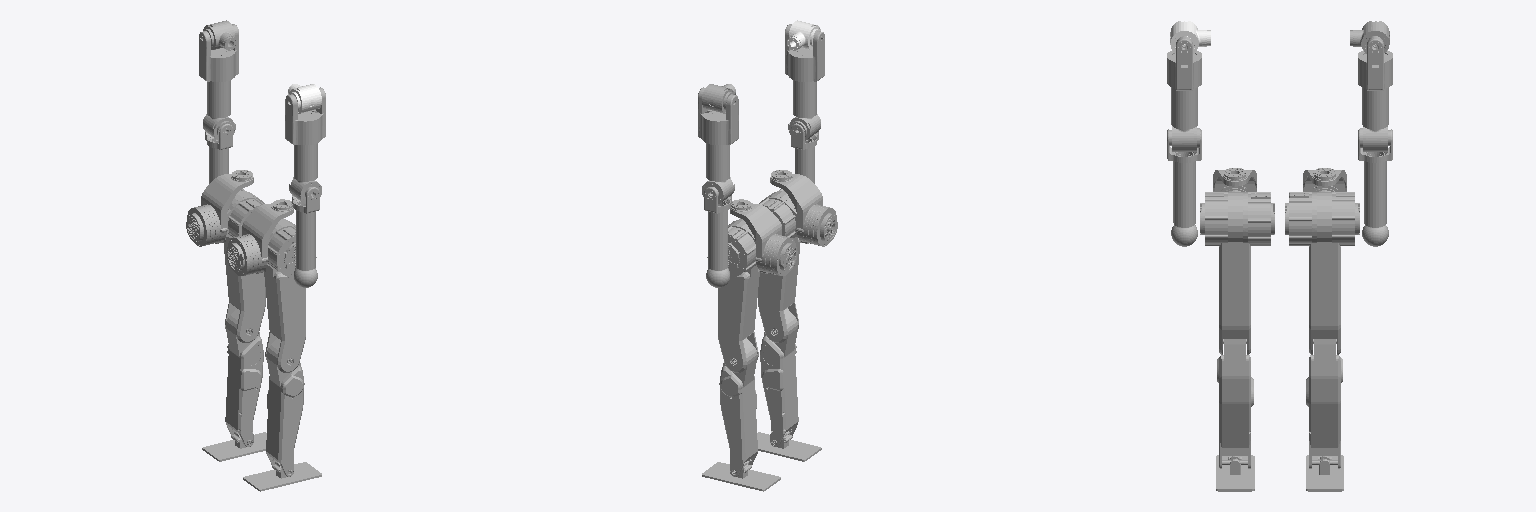
--- Render facts (derived) ---
The picture shows the robot from 3 angles, left to right: view 1: azimuth 30°, elevation 25°; view 2: azimuth 150°, elevation 25°; view 3: azimuth 270°, elevation 25°; orthographic projection.
Robot: bot_elf — 33 links, 32 joints (20 revolute, 11 fixed, 1 floating); root link world; default pose: every joint at zero.
Links seen in each view (by area): view 1: r_hip_y_link, r_knee_y_link, l_knee_y_link, l_hip_z_link, r_hip_z_link, l_hip_y_link, r_elb_y_link, r_shld_x_link, l_shld_x_link, l_shld_z_link, r_shld_z_link, r_ankle_x_link (+5 smaller); view 2: l_hip_y_link, l_knee_y_link, r_knee_y_link, r_hip_z_link, l_hip_z_link, r_hip_y_link, l_elb_y_link, l_shld_x_link, r_shld_x_link, r_shld_z_link, l_shld_z_link, l_ankle_x_link (+5 smaller); view 3: r_hip_y_link, l_hip_y_link, l_knee_y_link, r_knee_y_link, l_elb_y_link, r_elb_y_link, r_shld_z_link, l_shld_z_link, l_hip_x_link, r_hip_x_link, l_shld_x_link, r_shld_x_link (+6 smaller).
Link boxes in pixels (x1,y1,x2,y2): r_hip_y_link: (264,221,316,372); r_knee_y_link: (266,338,304,476); l_knee_y_link: (225,308,263,446); l_hip_z_link: (186,170,253,246); r_hip_z_link: (226,199,293,275); l_hip_y_link: (223,189,265,342); r_elb_y_link: (292,187,319,287); r_shld_x_link: (285,87,325,144); l_shld_x_link: (199,24,238,81); l_shld_z_link: (203,80,235,140); r_shld_z_link: (289,143,321,203); r_ankle_x_link: (243,462,321,491); l_hip_y_link: (707,221,759,372); l_knee_y_link: (719,338,757,476); r_knee_y_link: (760,308,798,446); r_hip_z_link: (770,170,837,246); l_hip_z_link: (730,199,797,275); r_hip_y_link: (758,189,800,342); l_elb_y_link: (704,187,731,287); l_shld_x_link: (698,87,738,144); r_shld_x_link: (785,24,824,81); r_shld_z_link: (788,80,820,140); l_shld_z_link: (702,143,734,203); l_ankle_x_link: (702,462,780,491); r_hip_y_link: (1200,192,1250,354); l_hip_y_link: (1309,192,1359,354); l_knee_y_link: (1306,339,1342,468); r_knee_y_link: (1217,339,1253,468); l_elb_y_link: (1358,129,1392,246); r_elb_y_link: (1167,129,1201,246); r_shld_z_link: (1171,87,1199,151); l_shld_z_link: (1360,87,1388,151); l_hip_x_link: (1285,192,1316,245); r_hip_x_link: (1243,192,1274,245); l_shld_x_link: (1358,36,1392,90); r_shld_x_link: (1167,36,1201,90).
Bounding box of the posed robot: 0.2297 × 0.5058 × 1.11 m (x, y, z).
20 mesh visuals loaded from 21 distinct referenced files (20 binary STL); not drawn: 1 (reference not matched to a file when rendering).

robot.urdf — bot_elf:
<?xml version="1.0" encoding="utf-8"?>
<robot
  name="bot_elf">
  <link
    name="base_link">
    <inertial>
      <origin
        xyz="0.0047796 0.0024086 -0.0080626"
        rpy="0 0 0" />
      <mass
        value="8.1797" />
      <inertia
        ixx="0.048088"
        ixy="1.5174E-07"
        ixz="1.072E-05"
        iyy="0.025715"
        iyz="-1.8442E-06"
        izz="0.034109" />
    </inertial>
    <visual>
      <origin
        xyz="0 0 0"
        rpy="0 0 0" />
      <geometry>
        <mesh
          filename="package://description/model/urdf/bot_elf/meshes/base_link.STL" />
      </geometry>
      <material
        name="">
        <color
          rgba="0.75294 0.75294 0.75294 1" />
      </material>
    </visual>
    <collision>
      <origin
        xyz="0 0 0"
        rpy="0 0 0" />
      <geometry>
        <mesh
          filename="package://description/model/urdf/bot_elf/meshes/base_link.STL" />
      </geometry>
    </collision>
  </link>
  <link
    name="l_hip_z_link">
    <inertial>
      <origin
        xyz="-0.0926596088186881 1.83143900212845E-05 0.013335848664072"
        rpy="0 0 0" />
      <mass
        value="1.23681233828303" />
      <inertia
        ixx="0.00190369835860619"
        ixy="5.51860109314912E-07"
        ixz="-0.000295974194800576"
        iyy="0.00158455365942534"
        iyz="2.68654743796429E-06"
        izz="0.00116909292803411" />
    </inertial>
    <visual>
      <origin
        xyz="0 0 0"
        rpy="0 0 0" />
      <geometry>
        <mesh
          filename="package://description/model/urdf/bot_elf/meshes/l_hip_z_link.STL" />
      </geometry>
      <material
        name="">
        <color
          rgba="0.752941176470588 0.752941176470588 0.752941176470588 1" />
      </material>
    </visual>
    <collision>
      <origin
        xyz="0 0 0"
        rpy="0 0 0" />
      <geometry>
        <mesh
          filename="package://description/model/urdf/bot_elf/meshes/l_hip_z_link.STL" />
      </geometry>
    </collision>
  </link>
  <joint
    name="l_hip_z_joint"
    type="revolute">
    <origin
      xyz="0 0.1 -0.2929"
      rpy="0 0 0" />
    <parent
      link="base_link" />
    <child
      link="l_hip_z_link" />
    <axis
      xyz="0 0 1" />
    <limit
      lower="-0.785"
      upper="0.785"
      effort="20"
      velocity="20" />
  </joint>
  <link
    name="l_hip_x_link">
    <inertial>
      <origin
        xyz="-0.00338370329540797 -0.0467745110690707 5.150285588576E-06"
        rpy="0 0 0" />
      <mass
        value="1.52690683733997" />
      <inertia
        ixx="0.00145004913823758"
        ixy="4.10352624430737E-05"
        ixz="4.97801733338824E-08"
        iyy="0.00233457718239287"
        iyz="-1.50048456747228E-08"
        izz="0.00157352349598003" />
    </inertial>
    <visual>
      <origin
        xyz="0 0 0"
        rpy="0 0 0" />
      <geometry>
        <mesh
          filename="package://description/model/urdf/bot_elf/meshes/l_hip_x_link.STL" />
      </geometry>
      <material
        name="">
        <color
          rgba="0.752941176470588 0.752941176470588 0.752941176470588 1" />
      </material>
    </visual>
    <collision>
      <origin
        xyz="0 0 0"
        rpy="0 0 0" />
      <geometry>
        <mesh
          filename="package://description/model/urdf/bot_elf/meshes/l_hip_x_link.STL" />
      </geometry>
    </collision>
  </link>
  <joint
    name="l_hip_x_joint"
    type="revolute">
    <origin
      xyz="0 0 0"
      rpy="0 0 0" />
    <parent
      link="l_hip_z_link" />
    <child
      link="l_hip_x_link" />
    <axis
      xyz="1 0 0" />
    <limit
      lower="-0.523"
      upper="0.785"
      effort="40"
      velocity="20" />
  </joint>
  <link
    name="l_hip_y_link">
    <inertial>
      <origin
        xyz="0.00255762409650847 0.0236405387147591 -0.048808744713007"
        rpy="0 0 0" />
      <mass
        value="2.50086507860377" />
      <inertia
        ixx="0.0110437074735068"
        ixy="1.73008147567407E-06"
        ixz="0.000227328231594566"
        iyy="0.0125914973055777"
        iyz="-2.64879858826109E-05"
        izz="0.0023184281360165" />
    </inertial>
    <visual>
      <origin
        xyz="0 0 0"
        rpy="0 0 0" />
      <geometry>
        <mesh
          filename="package://description/model/urdf/bot_elf/meshes/l_hip_y_link.STL" />
      </geometry>
      <material
        name="">
        <color
          rgba="0.752941176470588 0.752941176470588 0.752941176470588 1" />
      </material>
    </visual>
    <collision>
      <origin
        xyz="0 0 0"
        rpy="0 0 0" />
      <geometry>
        <mesh
          filename="package://description/model/urdf/bot_elf/meshes/l_hip_y_link.STL" />
      </geometry>
    </collision>
  </link>
  <joint
    name="l_hip_y_joint"
    type="revolute">
    <origin
      xyz="0 0 0"
      rpy="0 0 0" />
    <parent
      link="l_hip_x_link" />
    <child
      link="l_hip_y_link" />
    <axis
      xyz="0 1 0" />
    <limit
      lower="-2"
      upper="0.5"
      effort="150"
      velocity="20" />
  </joint>
  <link
    name="l_knee_y_link">
    <inertial>
      <origin
        xyz="0.00615799985005955 0.000579611337631 -0.110706777787508"
        rpy="0 0 0" />
      <mass
        value="1.42611317447382" />
      <inertia
        ixx="0.00265261046145861"
        ixy="3.62716577648164E-06"
        ixz="-0.00014997989154327"
        iyy="0.00293783143268895"
        iyz="1.89587363258298E-05"
        izz="0.000614654317255875" />
    </inertial>
    <visual>
      <origin
        xyz="0 0 0"
        rpy="0 0 0" />
      <geometry>
        <mesh
          filename="package://description/model/urdf/bot_elf/meshes/l_knee_y_link.STL" />
      </geometry>
      <material
        name="">
        <color
          rgba="0.752941176470588 0.752941176470588 0.752941176470588 1" />
      </material>
    </visual>
    <collision>
      <origin
        xyz="0 0 0"
        rpy="0 0 0" />
      <geometry>
        <mesh
          filename="package://description/model/urdf/bot_elf/meshes/l_knee_y_link.STL" />
      </geometry>
    </collision>
  </link>
  <joint
    name="l_knee_y_joint"
    type="revolute">
    <origin
      xyz="0 0 -0.3"
      rpy="0 0 0" />
    <parent
      link="l_hip_y_link" />
    <child
      link="l_knee_y_link" />
    <axis
      xyz="0 1 0" />
    <limit
      lower="0"
      upper="2.2"
      effort="150"
      velocity="20" />
  </joint>
  <link
    name="l_ankle_y_link">
    <inertial>
      <origin
        xyz="-6.09814513086586E-12 5.83219791905343E-10 3.64153152077051E-14"
        rpy="0 0 0" />
      <mass
        value="0.0230716180694964" />
      <inertia
        ixx="2.87473990078246E-06"
        ixy="-5.92541251517592E-17"
        ixz="-6.2876746116499E-18"
        iyy="5.59461108357194E-07"
        iyz="5.67081566973957E-19"
        izz="2.6957694272781E-06" />
    </inertial>
    <visual>
      <origin
        xyz="0 0 0"
        rpy="0 0 0" />
      <geometry>
        <mesh
          filename="package://description/model/urdf/bot_elf/meshes/l_ankle_y_link.STL" />
      </geometry>
      <material
        name="">
        <color
          rgba="0.752941176470588 0.752941176470588 0.752941176470588 1" />
      </material>
    </visual>
    <collision>
      <origin
        xyz="0 0 0"
        rpy="0 0 0" />
      <geometry>
        <mesh
          filename="package://description/model/urdf/bot_elf/meshes/l_ankle_y_link.STL" />
      </geometry>
    </collision>
  </link>
  <joint
    name="l_ankle_y_joint"
    type="revolute">
    <origin
      xyz="0 0 -0.3"
      rpy="0 0 0" />
    <parent
      link="l_knee_y_link" />
    <child
      link="l_ankle_y_link" />
    <axis
      xyz="0 1 0" />
    <limit
      lower="-1.134"
      upper="0.872"
      effort="14"
      velocity="20" />
  </joint>
  <link
    name="l_ankle_x_link">
    <inertial>
      <origin
        xyz="-0.000451547351572134 1.90180791947991E-09 -0.0239480271401858"
        rpy="0 0 0" />
      <mass
        value="0.242076229237956" />
      <inertia
        ixx="0.000133478606835497"
        ixy="-1.35534858432808E-12"
        ixz="-4.72078298245015E-08"
        iyy="0.000565974636810553"
        iyz="-3.48826857670192E-12"
        izz="0.000693006055828246" />
    </inertial>
    <visual>
      <origin
        xyz="0 0 0"
        rpy="0 0 0" />
      <geometry>
        <mesh
          filename="package://description/model/urdf/bot_elf/meshes/l_ankle_x_link.STL" />
      </geometry>
      <material
        name="">
        <color
          rgba="0.752941176470588 0.752941176470588 0.752941176470588 1" />
      </material>
    </visual>
    <collision>
      <origin
        xyz="0 0 0"
        rpy="0 0 0" />
      <geometry>
        <mesh
          filename="package://description/model/urdf/bot_elf/meshes/l_ankle_x_link.STL" />
      </geometry>
    </collision>
  </link>
  <joint
    name="l_ankle_x_joint"
    type="revolute">
    <origin
      xyz="0 0 0"
      rpy="0 0 0" />
    <parent
      link="l_ankle_y_link" />
    <child
      link="l_ankle_x_link" />
    <axis
      xyz="1 0 0" />
    <limit
      lower="-0.349"
      upper="0.349"
      effort="14"
      velocity="20" />
  </joint>
  <link
    name="r_hip_z_link">
    <inertial>
      <origin
        xyz="-0.0926596100628432 -1.83149507901742E-05 0.0133358473859379"
        rpy="0 0 0" />
      <mass
        value="1.23681232467206" />
      <inertia
        ixx="0.00190369819431391"
        ixy="-5.51893727727547E-07"
        ixz="-0.000295974083738072"
        iyy="0.00158455355805139"
        iyz="-2.68652577448903E-06"
        izz="0.00116909298056176" />
    </inertial>
    <visual>
      <origin
        xyz="0 0 0"
        rpy="0 0 0" />
      <geometry>
        <mesh
          filename="package://description/model/urdf/bot_elf/meshes/r_hip_z_link.STL" />
      </geometry>
      <material
        name="">
        <color
          rgba="0.752941176470588 0.752941176470588 0.752941176470588 1" />
      </material>
    </visual>
    <collision>
      <origin
        xyz="0 0 0"
        rpy="0 0 0" />
      <geometry>
        <mesh
          filename="package://description/model/urdf/bot_elf/meshes/r_hip_z_link.STL" />
      </geometry>
    </collision>
  </link>
  <joint
    name="r_hip_z_joint"
    type="revolute">
    <origin
      xyz="0 -0.1 -0.2929"
      rpy="0 0 0" />
    <parent
      link="base_link" />
    <child
      link="r_hip_z_link" />
    <axis
      xyz="0 0 1" />
    <limit
      lower="-0.785"
      upper="0.785"
      effort="20"
      velocity="20" />
  </joint>
  <link
    name="r_hip_x_link">
    <inertial>
      <origin
        xyz="-0.00338370329319122 0.0467745110719649 -5.15028594272327E-06"
        rpy="0 0 0" />
      <mass
        value="1.52690683726889" />
      <inertia
        ixx="0.00145004913816721"
        ixy="-4.1035262366074E-05"
        ixz="-4.97801918977252E-08"
        iyy="0.00233457718230779"
        iyz="-1.50048535538651E-08"
        izz="0.00157352349584134" />
    </inertial>
    <visual>
      <origin
        xyz="0 0 0"
        rpy="0 0 0" />
      <geometry>
        <mesh
          filename="package://description/model/urdf/bot_elf/meshes/r_hip_x_link.STL" />
      </geometry>
      <material
        name="">
        <color
          rgba="0.752941176470588 0.752941176470588 0.752941176470588 1" />
      </material>
    </visual>
    <collision>
      <origin
        xyz="0 0 0"
        rpy="0 0 0" />
      <geometry>
        <mesh
          filename="package://description/model/urdf/bot_elf/meshes/r_hip_x_link.STL" />
      </geometry>
    </collision>
  </link>
  <joint
    name="r_hip_x_joint"
    type="revolute">
    <origin
      xyz="0 0 0"
      rpy="0 0 0" />
    <parent
      link="r_hip_z_link" />
    <child
      link="r_hip_x_link" />
    <axis
      xyz="1 0 0" />
    <limit
      lower="-0.785"
      upper="0.523"
      effort="40"
      velocity="20" />
  </joint>
  <link
    name="r_hip_y_link">
    <inertial>
      <origin
        xyz="0.00255763066098993 -0.0236405391952909 -0.0488087769927071"
        rpy="0 0 0" />
      <mass
        value="2.50086518492187" />
      <inertia
        ixx="0.0110437209512944"
        ixy="-1.72998158531581E-06"
        ixz="0.000227332007725612"
        iyy="0.012591510850742"
        iyz="2.64884628868717E-05"
        izz="0.00231842880087343" />
    </inertial>
    <visual>
      <origin
        xyz="0 0 0"
        rpy="0 0 0" />
      <geometry>
        <mesh
          filename="package://description/model/urdf/bot_elf/meshes/r_hip_y_link.STL" />
      </geometry>
      <material
        name="">
        <color
          rgba="0.752941176470588 0.752941176470588 0.752941176470588 1" />
      </material>
    </visual>
    <collision>
      <origin
        xyz="0 0 0"
        rpy="0 0 0" />
      <geometry>
        <mesh
          filename="package://description/model/urdf/bot_elf/meshes/r_hip_y_link.STL" />
      </geometry>
    </collision>
  </link>
  <joint
    name="r_hip_y_joint"
    type="revolute">
    <origin
      xyz="0 0 0"
      rpy="0 0 0" />
    <parent
      link="r_hip_x_link" />
    <child
      link="r_hip_y_link" />
    <axis
      xyz="0 1 0" />
    <limit
      lower="-2"
      upper="0.5"
      effort="150"
      velocity="20" />
  </joint>
  <link
    name="r_knee_y_link">
    <inertial>
      <origin
        xyz="0.00617132335541426 -0.000560807743664765 -0.11065165092477"
        rpy="0 0 0" />
      <mass
        value="1.42506790131187" />
      <inertia
        ixx="0.00264676043875699"
        ixy="-3.64420143143032E-06"
        ixz="-0.000149674709580511"
        iyy="0.00293197556843643"
        iyz="-1.92776513579778E-05"
        izz="0.000614607093781911" />
    </inertial>
    <visual>
      <origin
        xyz="0 0 0"
        rpy="0 0 0" />
      <geometry>
        <mesh
          filename="package://description/model/urdf/bot_elf/meshes/r_knee_y_link.STL" />
      </geometry>
      <material
        name="">
        <color
          rgba="0.752941176470588 0.752941176470588 0.752941176470588 1" />
      </material>
    </visual>
    <collision>
      <origin
        xyz="0 0 0"
        rpy="0 0 0" />
      <geometry>
        <mesh
          filename="package://description/model/urdf/bot_elf/meshes/r_knee_y_link.STL" />
      </geometry>
    </collision>
  </link>
  <joint
    name="r_knee_y_joint"
    type="revolute">
    <origin
      xyz="0 0 -0.3"
      rpy="0 0 0" />
    <parent
      link="r_hip_y_link" />
    <child
      link="r_knee_y_link" />
    <axis
      xyz="0 1 0" />
    <limit
      lower="0"
      upper="2.2"
      effort="150"
      velocity="20" />
  </joint>
  <link
    name="r_ankle_y_link">
    <inertial>
      <origin
        xyz="-1.21872957033124E-11 -5.83219417205072E-10 5.00266494896096E-13"
        rpy="0 0 0" />
      <mass
        value="0.0230716180694967" />
      <inertia
        ixx="2.8747399010197E-06"
        ixy="-6.04370024399216E-17"
        ixz="-8.30234156722694E-18"
        iyy="5.59461108474785E-07"
        iyz="-1.29308673475988E-18"
        izz="2.69576942739776E-06" />
    </inertial>
    <visual>
      <origin
        xyz="0 0 0"
        rpy="0 0 0" />
      <geometry>
        <mesh
          filename="package://description/model/urdf/bot_elf/meshes/r_ankle_y_link.STL" />
      </geometry>
      <material
        name="">
        <color
          rgba="0.752941176470588 0.752941176470588 0.752941176470588 1" />
      </material>
    </visual>
    <collision>
      <origin
        xyz="0 0 0"
        rpy="0 0 0" />
      <geometry>
        <mesh
          filename="package://description/model/urdf/bot_elf/meshes/r_ankle_y_link.STL" />
      </geometry>
    </collision>
  </link>
  <joint
    name="r_ankle_y_joint"
    type="revolute">
    <origin
      xyz="0 0 -0.3"
      rpy="0 0 0" />
    <parent
      link="r_knee_y_link" />
    <child
      link="r_ankle_y_link" />
    <axis
      xyz="0 1 0" />
    <limit
      lower="-1.134"
      upper="0.872"
      effort="14"
      velocity="20" />
  </joint>
  <link
    name="r_ankle_x_link">
    <inertial>
      <origin
        xyz="-0.000451549280729961 -1.79609392636504E-09 -0.0239480246768528"
        rpy="0 0 0" />
      <mass
        value="0.24207626222516" />
      <inertia
        ixx="0.000133478605085963"
        ixy="1.32257502304071E-12"
        ixz="-4.72071011237789E-08"
        iyy="0.000565974633400782"
        iyz="3.25954307181434E-12"
        izz="0.000693006056524855" />
    </inertial>
    <visual>
      <origin
        xyz="0 0 0"
        rpy="0 0 0" />
      <geometry>
        <mesh
          filename="package://description/model/urdf/bot_elf/meshes/r_ankle_x_link.STL" />
      </geometry>
      <material
        name="">
        <color
          rgba="0.752941176470588 0.752941176470588 0.752941176470588 1" />
      </material>
    </visual>
    <collision>
      <origin
        xyz="0 0 0"
        rpy="0 0 0" />
      <geometry>
        <mesh
          filename="package://description/model/urdf/bot_elf/meshes/r_ankle_x_link.STL" />
      </geometry>
    </collision>
  </link>
  <joint
    name="r_ankle_x_joint"
    type="revolute">
    <origin
      xyz="0 0 0"
      rpy="0 0 0" />
    <parent
      link="r_ankle_y_link" />
    <child
      link="r_ankle_x_link" />
    <axis
      xyz="1 0 0" />
    <limit
      lower="-0.349"
      upper="0.349"
      effort="14"
      velocity="20" />
  </joint>
  <link
    name="l_shld_y_link">
    <inertial>
      <origin
        xyz="-0.000602020278894832 -0.00203253807550383 5.25078036642812E-05"
        rpy="0 0 0" />
      <mass
        value="0.397430898254414" />
      <inertia
        ixx="0.000197533082877176"
        ixy="-2.13914774743445E-06"
        ixz="4.75269653041195E-07"
        iyy="0.000172304821546368"
        iyz="1.06293202473427E-06"
        izz="0.000193880730475137" />
    </inertial>
    <visual>
      <origin
        xyz="0 0 0"
        rpy="0 0 0" />
      <geometry>
        <mesh
          filename="package://description/model/urdf/bot_elf/meshes/l_shld_y_link.STL" />
      </geometry>
      <material
        name="">
        <color
          rgba="0.752941176470588 0.752941176470588 0.752941176470588 1" />
      </material>
    </visual>
    <collision>
      <origin
        xyz="0 0 0"
        rpy="0 0 0" />
      <geometry>
        <mesh
          filename="package://description/model/urdf/bot_elf/meshes/l_shld_y_link.STL" />
      </geometry>
    </collision>
  </link>
  <joint
    name="l_shld_y_joint"
    type="revolute">
    <origin
      xyz="0 0.213 0.1521"
      rpy="0 0 0" />
    <parent
      link="base_link" />
    <child
      link="l_shld_y_link" />
    <axis
      xyz="0 1 0" />
    <limit
      lower="-2"
      upper="2"
      effort="27"
      velocity="20" />
  </joint>
  <link
    name="l_shld_x_link">
    <inertial>
      <origin
        xyz="3.49942010425215E-05 5.81165736925626E-05 -0.068328160023371"
        rpy="0 0 0" />
      <mass
        value="0.621968051279973" />
      <inertia
        ixx="0.000522407314474642"
        ixy="1.0633092850603E-06"
        ixz="4.82966301174553E-06"
        iyy="0.000684523465472649"
        iyz="-8.21814917464773E-07"
        izz="0.000533096664005443" />
    </inertial>
    <visual>
      <origin
        xyz="0 0 0"
        rpy="0 0 0" />
      <geometry>
        <mesh
          filename="package://description/model/urdf/bot_elf/meshes/l_shld_x_link.STL" />
      </geometry>
      <material
        name="">
        <color
          rgba="0.752941176470588 0.752941176470588 0.752941176470588 1" />
      </material>
    </visual>
    <collision>
      <origin
        xyz="0 0 0"
        rpy="0 0 0" />
      <geometry>
        <mesh
          filename="package://description/model/urdf/bot_elf/meshes/l_shld_x_link.STL" />
      </geometry>
    </collision>
  </link>
  <joint
    name="l_shld_x_joint"
    type="revolute">
    <origin
      xyz="0 0 0"
      rpy="0 0 0" />
    <parent
      link="l_shld_y_link" />
    <child
      link="l_shld_x_link" />
    <axis
      xyz="1 0 0" />
    <limit
      lower="-2"
      upper="2"
      effort="27"
      velocity="20" />
  </joint>
  <link
    name="l_shld_z_link">
    <inertial>
      <origin
        xyz="8.04921908110876E-05 -0.000424509130888678 -0.230838826500421"
        rpy="0 0 0" />
      <mass
        value="0.449112448185888" />
      <inertia
        ixx="0.000250701927485454"
        ixy="8.21779092863005E-07"
        ixz="-1.0631472773896E-06"
        iyy="0.000253940290337809"
        iyz="4.73387697997262E-07"
        izz="0.000224460005915657" />
    </inertial>
    <visual>
      <origin
        xyz="0 0 0"
        rpy="0 0 0" />
      <geometry>
        <mesh
          filename="package://description/model/urdf/bot_elf/meshes/l_shld_z_link.STL" />
      </geometry>
      <material
        name="">
        <color
          rgba="0.752941176470588 0.752941176470588 0.752941176470588 1" />
      </material>
    </visual>
    <collision>
      <origin
        xyz="0 0 0"
        rpy="0 0 0" />
      <geometry>
        <mesh
          filename="package://description/model/urdf/bot_elf/meshes/l_shld_z_link.STL" />
      </geometry>
    </collision>
  </link>
  <joint
    name="l_shld_z_joint"
    type="revolute">
    <origin
      xyz="0 0 0"
      rpy="0 0 0" />
    <parent
      link="l_shld_x_link" />
    <child
      link="l_shld_z_link" />
    <axis
      xyz="0 0 1" />
    <limit
      lower="-2"
      upper="2"
      effort="7"
      velocity="20" />
  </joint>
  <link
    name="l_elb_y_link">
    <inertial>
      <origin
        xyz="1.52840600574913E-09 0.00061623853967685 -0.108440061437075"
        rpy="0 0 0" />
      <mass
        value="0.164832849485564" />
      <inertia
        ixx="0.000272523867356837"
        ixy="-3.68958961037701E-12"
        ixz="-4.08453819018909E-13"
        iyy="0.000246652324618476"
        iyz="5.6498846108711E-07"
        izz="0.000111491920128197" />
    </inertial>
    <visual>
      <origin
        xyz="0 0 0"
        rpy="0 0 0" />
      <geometry>
        <mesh
          filename="package://description/model/urdf/bot_elf/meshes/l_elb_y_link.STL" />
      </geometry>
      <material
        name="">
        <color
          rgba="0.752941176470588 0.752941176470588 0.752941176470588 1" />
      </material>
    </visual>
    <collision>
      <origin
        xyz="0 0 0"
        rpy="0 0 0" />
      <geometry>
        <mesh
          filename="package://description/model/urdf/bot_elf/meshes/l_elb_y_link.STL" />
      </geometry>
    </collision>
  </link>
  <joint
    name="l_elb_y_joint"
    type="revolute">
    <origin
      xyz="0 0 -0.24505"
      rpy="0 0 0" />
    <parent
      link="l_shld_z_link" />
    <child
      link="l_elb_y_link" />
    <axis
      xyz="0 1 0" />
    <limit
      lower="-2"
      upper="2"
      effort="27"
      velocity="20" />
  </joint>
  <link
    name="r_shld_y_link">
    <inertial>
      <origin
        xyz="-0.000602020278894832 0.00203253807550383 5.25078036642812E-05"
        rpy="0 0 0" />
      <mass
        value="0.397430898254414" />
        <inertia
        ixx="0.000197533082877176"
        ixy="2.13914774743445E-06"
        ixz="-4.75269653041195E-07"
        iyy="0.000172304821546368"
        iyz="1.06293202473427E-06"
        izz="0.000193880730475137" />
    </inertial>
    <visual>
      <origin
        xyz="0 0 0"
        rpy="0 0 0" />
      <geometry>
        <mesh
          filename="package://description/model/urdf/bot_elf/meshes/r_shld_y_link.STL" />
      </geometry>
      <material
        name="">
        <color
          rgba="1 1 1 1" />
      </material>
    </visual>
    <collision>
      <origin
        xyz="0 0 0"
        rpy="0 0 0" />
      <geometry>
        <mesh
          filename="package://description/model/urdf/bot_elf/meshes/r_shld_y_link.STL" />
      </geometry>
    </collision>
  </link>
  <joint
    name="r_shld_y_joint"
    type="revolute">
    <origin
      xyz="0 -0.213 0.1521"
      rpy="0 0 0" />
    <parent
      link="base_link" />
    <child
      link="r_shld_y_link" />
    <axis
      xyz="0 1 0" />
    <limit
      lower="-2"
      upper="2"
      effort="27"
      velocity="20" />
  </joint>
  <link
    name="r_shld_x_link">
    <inertial>
      <origin
        xyz="3.49942010425205E-05 -5.81165736925071E-05 -0.0683281600233711"
        rpy="0 0 0" />
      <mass
        value="0.621968051279973" />
      <inertia
        ixx="0.000522407314474642"
        ixy="-1.06330928506036E-06"
        ixz="4.82966301174548E-06"
        iyy="0.000684523465472649"
        iyz="8.21814917464805E-07"
        izz="0.000533096664005443" />
    </inertial>
    <visual>
      <origin
        xyz="0 0 0"
        rpy="0 0 0" />
      <geometry>
        <mesh
          filename="package://description/model/urdf/bot_elf/meshes/r_shld_x_link.STL" />
      </geometry>
      <material
        name="">
        <color
          rgba="0.752941176470588 0.752941176470588 0.752941176470588 1" />
      </material>
    </visual>
    <collision>
      <origin
        xyz="0 0 0"
        rpy="0 0 0" />
      <geometry>
        <mesh
          filename="package://description/model/urdf/bot_elf/meshes/r_shld_x_link.STL" />
      </geometry>
    </collision>
  </link>
  <joint
    name="r_shld_x_joint"
    type="revolute">
    <origin
      xyz="0 0 0"
      rpy="0 0 0" />
    <parent
      link="r_shld_y_link" />
    <child
      link="r_shld_x_link" />
    <axis
      xyz="1 0 0" />
    <limit
      lower="-2"
      upper="2"
      effort="27"
      velocity="20" />
  </joint>
  <link
    name="r_shld_z_link">
    <inertial>
      <origin
        xyz="8.0589558253347E-05 0.000424513070547111 -0.230838913045408"
        rpy="0 0 0" />
      <mass
        value="0.449113232804568" />
      <inertia
        ixx="0.000250699864950972"
        ixy="-8.21992379855939E-07"
        ixz="-1.06334410611211E-06"
        iyy="0.000253940771428312"
        iyz="-4.73304934008079E-07"
        izz="0.000224461304023008" />
    </inertial>
    <visual>
      <origin
        xyz="0 0 0"
        rpy="0 0 0" />
      <geometry>
        <mesh
          filename="package://description/model/urdf/bot_elf/meshes/r_shld_z_link.STL" />
      </geometry>
      <material
        name="">
        <color
          rgba="0.752941176470588 0.752941176470588 0.752941176470588 1" />
      </material>
    </visual>
    <collision>
      <origin
        xyz="0 0 0"
        rpy="0 0 0" />
      <geometry>
        <mesh
          filename="package://description/model/urdf/bot_elf/meshes/r_shld_z_link.STL" />
      </geometry>
    </collision>
  </link>
  <joint
    name="r_shld_z_joint"
    type="revolute">
    <origin
      xyz="0 0 0"
      rpy="0 0 0" />
    <parent
      link="r_shld_x_link" />
    <child
      link="r_shld_z_link" />
    <axis
      xyz="0 0 1" />
    <limit
      lower="-2"
      upper="2"
      effort="7"
      velocity="20" />
  </joint>
  <link
    name="r_elb_y_link">
    <inertial>
      <origin
        xyz="-1.52840602714641E-09 -0.000616238539676822 -0.108440061437075"
        rpy="0 0 0" />
      <mass
        value="0.164832849485564" />
      <inertia
        ixx="0.000272523867356837"
        ixy="-3.68958975120286E-12"
        ixz="4.08453745704318E-13"
        iyy="0.000246652324618476"
        iyz="-5.64988461087134E-07"
        izz="0.000111491920128197" />
    </inertial>
    <visual>
      <origin
        xyz="0 0 0"
        rpy="0 0 0" />
      <geometry>
        <mesh
          filename="package://description/model/urdf/bot_elf/meshes/r_elb_y_link.STL" />
      </geometry>
      <material
        name="">
        <color
          rgba="0.752941176470588 0.752941176470588 0.752941176470588 1" />
      </material>
    </visual>
    <collision>
      <origin
        xyz="0 0 0"
        rpy="0 0 0" />
      <geometry>
        <mesh
          filename="package://description/model/urdf/bot_elf/meshes/r_elb_y_link.STL" />
      </geometry>
    </collision>
  </link>
  <joint
    name="r_elb_y_joint"
    type="revolute">
    <origin
      xyz="0 0 -0.24505"
      rpy="0 0 0" />
    <parent
      link="r_shld_z_link" />
    <child
      link="r_elb_y_link" />
    <axis
      xyz="0 1 0" />
    <limit
      lower="-2"
      upper="2"
      effort="27"
      velocity="20" />
  </joint>

  <link name="contact1"/>
  <link name="contact2"/>
  <link name="contact3"/>
  <link name="contact4" />
  <link name="contact5"/>
  <link name="contact6"/>
  <link name="contact7"/>
  <link name="contact8"/>

  <link name="imu_link"/>

  <link name="l_hand_contact"/>
  <link name="r_hand_contact"/>

  <!-- hand -->
  <joint name="l_hand_joint" type="fixed">
    <origin rpy="0 0 0" xyz="0 0 -0.235"/>
    <parent link="l_elb_y_link"/>
    <child link="l_hand_contact"/>
  </joint>
  <joint name="r_hand_joint" type="fixed">
    <origin rpy="0 0 0" xyz="0 0 -0.235"/>
    <parent link="r_elb_y_link"/>
    <child link="r_hand_contact"/>
  </joint>


  <joint name="contact1_joint" type="fixed">
    <origin rpy="0 0 0" xyz="0.09 0.043 -0.029"/>
    <parent link="l_ankle_x_link"/>
    <child link="contact1"/>
  </joint>
  <joint name="contact2_joint" type="fixed">
    <origin rpy="0 0 0" xyz="0.09 -0.043 -0.029"/>
    <parent link="l_ankle_x_link"/>
    <child link="contact2"/>
  </joint>
  <joint name="contact3_joint" type="fixed">
    <origin rpy="0 0 0" xyz="-0.09 0.043 -0.029"/>
    <parent link="l_ankle_x_link"/>
    <child link="contact3"/>
  </joint>
  <joint name="contact4_joint" type="fixed">
    <origin rpy="0 0 0" xyz="-0.09 -0.043 -0.029"/>
    <parent link="l_ankle_x_link"/>
    <child link="contact4"/>
  </joint>
  <joint name="contact5_joint" type="fixed">
    <origin rpy="0 0 0" xyz="0.09 0.043 -0.029"/>
    <parent link="r_ankle_x_link"/>
    <child link="contact5"/>
  </joint>
  <joint name="contact6_joint" type="fixed">
    <origin rpy="0 0 0" xyz="0.09 -0.043 -0.029"/>
    <parent link="r_ankle_x_link"/>
    <child link="contact6"/>
  </joint>
  <joint name="contact7_joint" type="fixed">
    <origin rpy="0 0 0" xyz="-0.09 0.043 -0.029"/>
    <parent link="r_ankle_x_link"/>
    <child link="contact7"/>
  </joint>
  <joint name="contact8_joint" type="fixed">
    <origin rpy="0 0 0" xyz="-0.09 -0.043 -0.029"/>
    <parent link="r_ankle_x_link"/>
    <child link="contact8"/>
  </joint>
  <joint name="imu_joint" type="fixed">
    <origin rpy="0 0 0" xyz="0 0 0"/>
    <parent link="base_link"/>
    <child link="imu_link"/>
  </joint>

  <link name="world">
  </link>
  <joint name="world_joint" type="floating">
     <parent link="world"/>
     <child link="base_link"/>
  </joint>

</robot>
